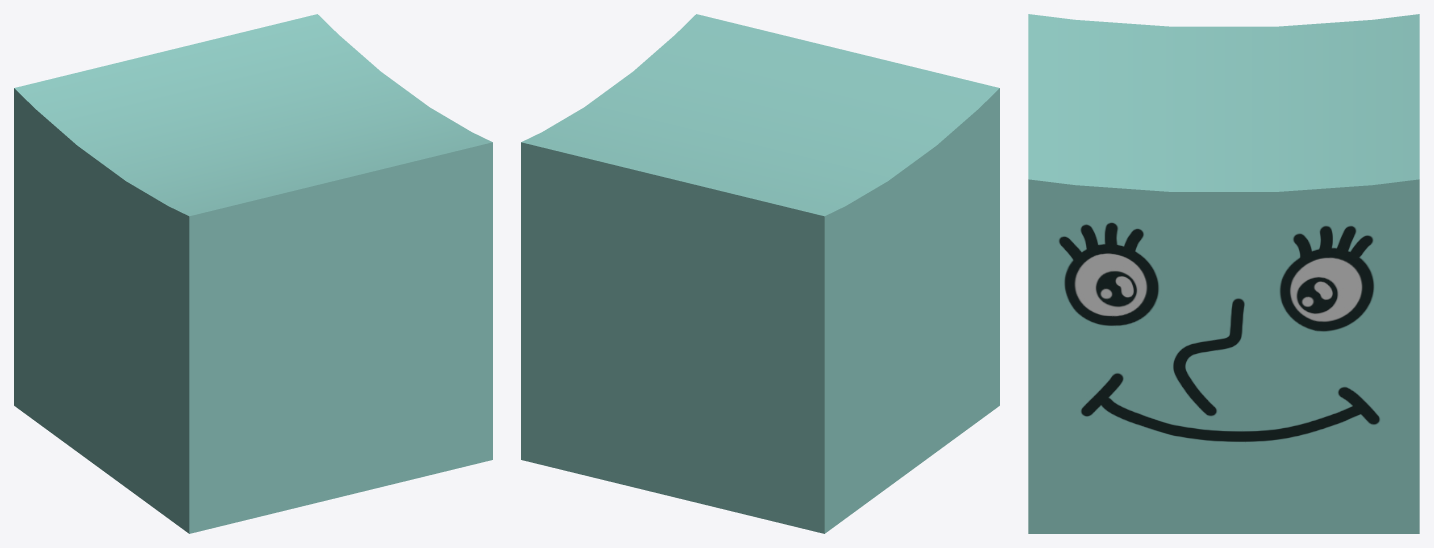
The model's file is beauty.fbx.
3 views of the same model, side by side, from view 1: azimuth 30°, elevation 25°; view 2: azimuth 150°, elevation 25°; view 3: azimuth 270°, elevation 25° (orthographic). The views are drawn at different scales.
Visible parts, largest first — view 1: Cube; view 2: Cube; view 3: Cube.
Boxes of the visible parts, x1,y1,x2,y2 form: Cube: (14,14,492,533); Cube: (521,14,999,533); Cube: (1028,14,1419,533).
Bounding box in the file's own units: 200 × 200 × 200.
1 material, 1 textured.
